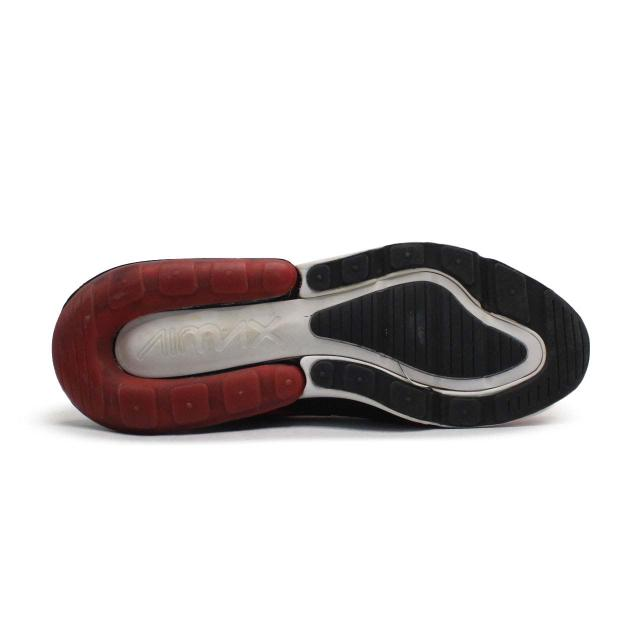outersole: (51, 240, 590, 430)
